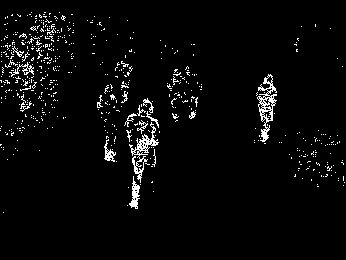person: (124, 99, 156, 211), (96, 82, 121, 162), (259, 76, 279, 147)
